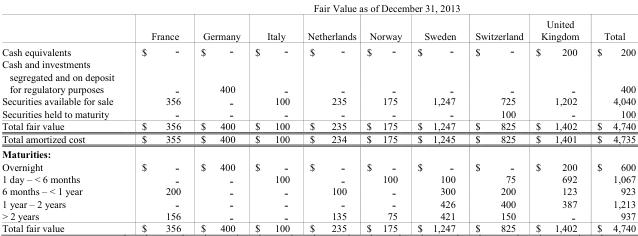table: (1, 1, 635, 233)
table column: (1, 1, 126, 233), (126, 1, 190, 233), (464, 1, 528, 233), (297, 1, 360, 233), (528, 1, 587, 233), (190, 1, 247, 233), (409, 1, 464, 233), (247, 1, 297, 233), (360, 1, 409, 233), (587, 1, 635, 233)
table column header: (1, 1, 635, 42)
table projected row header: (1, 57, 635, 70), (1, 146, 635, 159), (1, 70, 635, 82)
table row: (1, 15, 635, 42), (1, 42, 635, 57), (1, 1, 635, 15), (1, 132, 635, 146), (1, 159, 635, 173), (1, 57, 635, 70), (1, 82, 635, 95), (1, 107, 635, 120), (1, 146, 635, 159), (1, 197, 635, 210), (1, 70, 635, 82), (1, 95, 635, 107), (1, 120, 635, 132), (1, 173, 635, 185), (1, 185, 635, 197), (1, 210, 635, 222), (1, 222, 635, 233)
table spanning cell: (126, 1, 635, 15)
